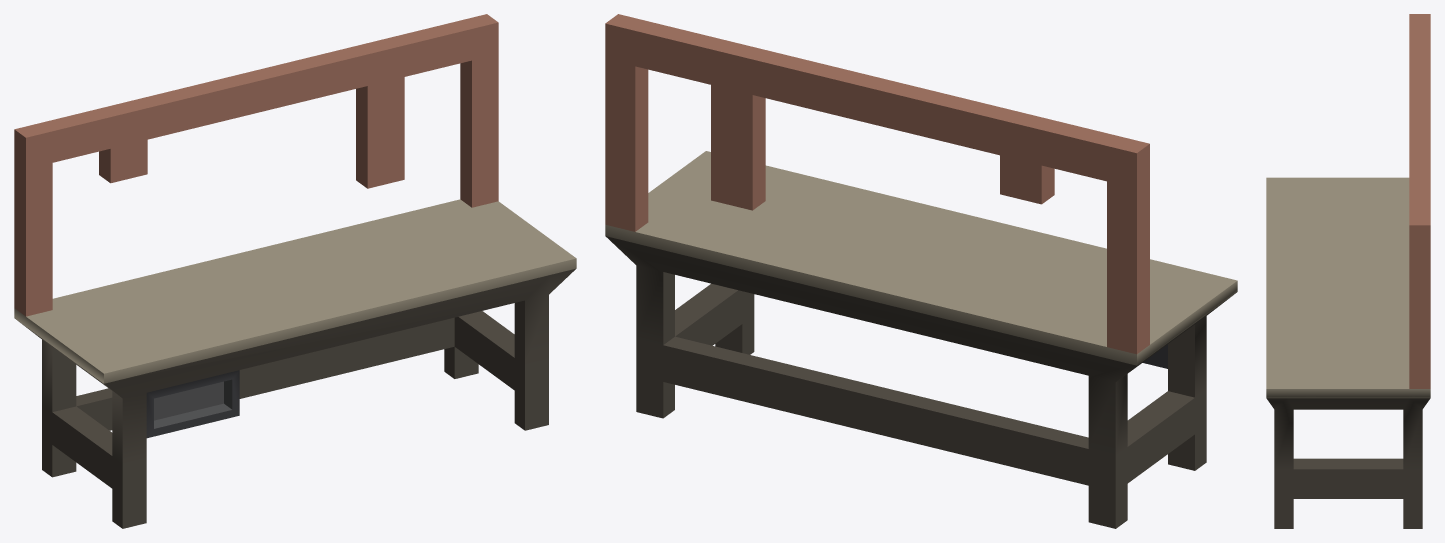
The model's file is WorkBench.fbx.
3 views of the same model, side by side, from view 1: azimuth 30°, elevation 25°; view 2: azimuth 150°, elevation 25°; view 3: azimuth 270°, elevation 25° (orthographic). The views are drawn at different scales.
Parts seen in each view (by area): view 1: WorkBench; view 2: WorkBench; view 3: WorkBench.
Part boxes in pixels (box(x1,y1,x2,y2)): WorkBench: box(14, 14, 576, 528); WorkBench: box(605, 14, 1237, 528); WorkBench: box(1266, 14, 1430, 528).
Bounding box in the file's own units: 330 × 229 × 108.
